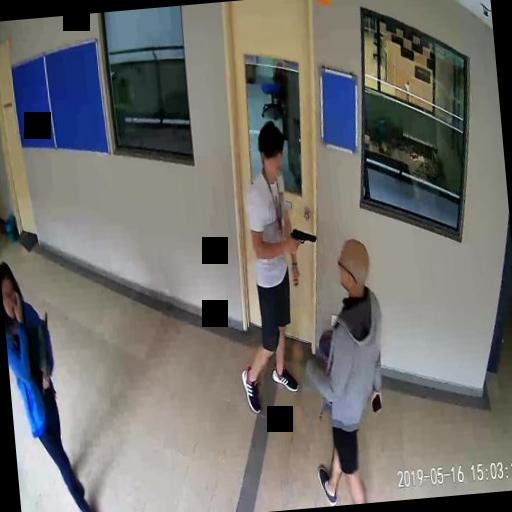Handgun: (290, 223, 316, 254)
